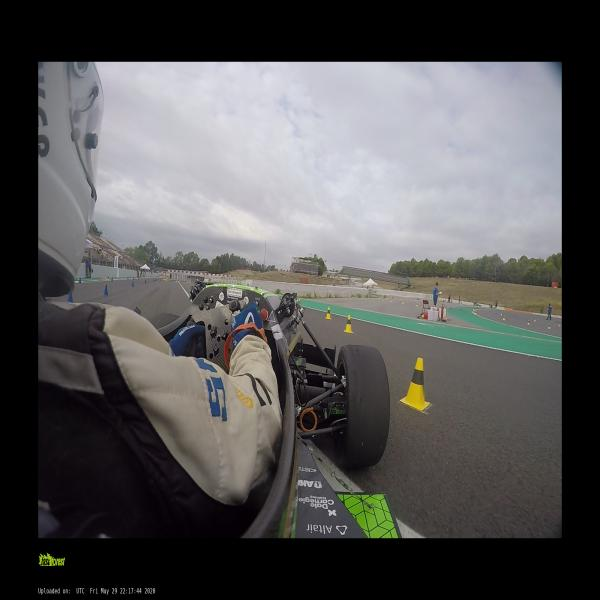blue_cone: (103, 285, 108, 295), (69, 293, 73, 303), (131, 280, 135, 286), (78, 277, 81, 283)
yellow_cone: (401, 358, 429, 412), (342, 314, 353, 335), (325, 307, 331, 320), (546, 324, 550, 329), (502, 315, 505, 321), (527, 320, 530, 325)
